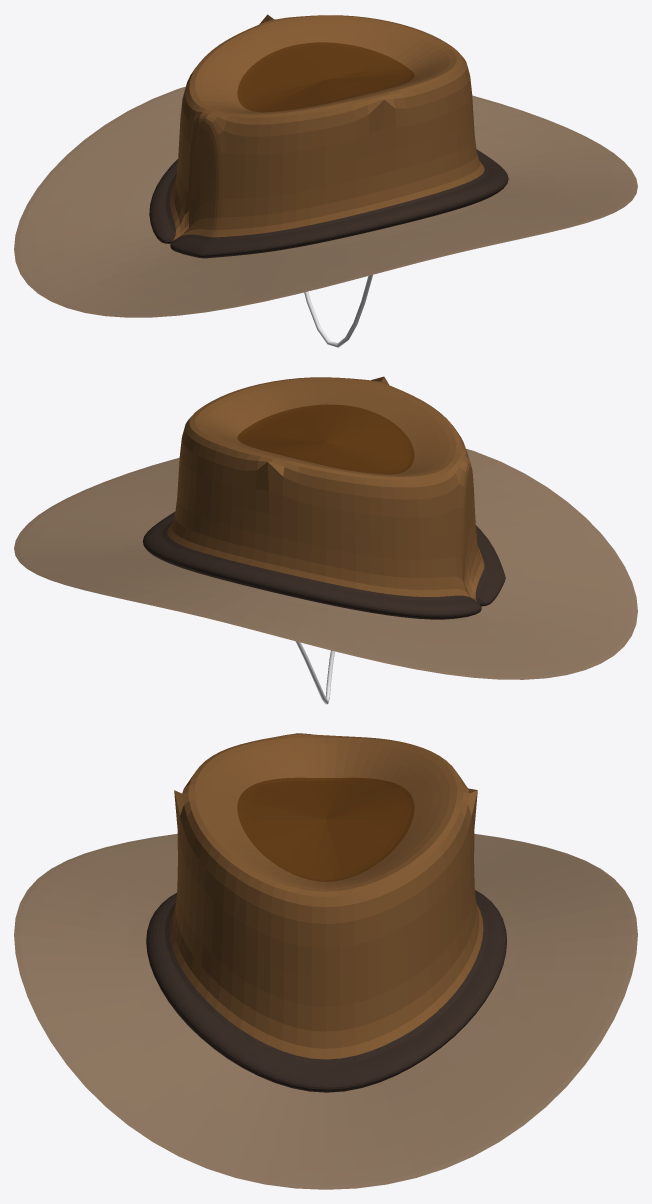
Rendered from chapeau.fbx.
3 renders of one model, top to bottom at view 1: azimuth 30°, elevation 25°; view 2: azimuth 150°, elevation 25°; view 3: azimuth 270°, elevation 25°, orthographic. The views are drawn at different scales.
Visible parts, largest first — view 1: Cylinder, BézierCurve; view 2: Cylinder, BézierCurve; view 3: Cylinder.
Boxes of the visible parts, x1,y1,x2,y2 form: Cylinder: (14,14,637,317); BézierCurve: (304,275,372,347); Cylinder: (14,376,637,679); BézierCurve: (295,641,334,704); Cylinder: (14,733,637,1189).
Bounding box in the file's own units: 587 × 279 × 423.
Materials: 2 (2 with a texture image).
